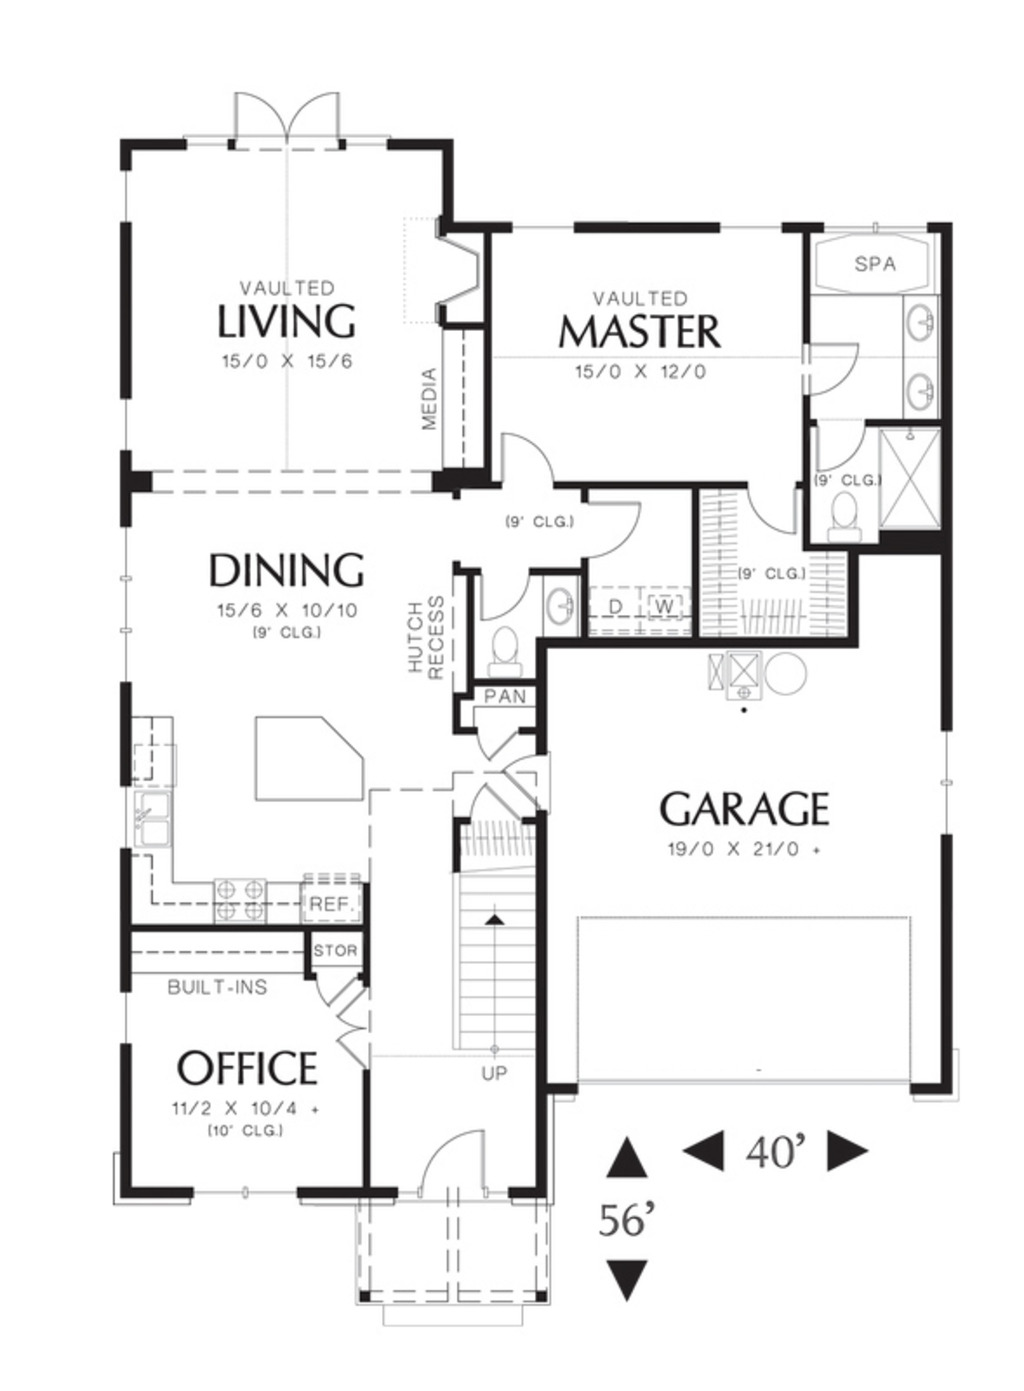door: (221, 89, 358, 161), (412, 1120, 512, 1207), (580, 491, 654, 565), (462, 565, 545, 626), (495, 428, 560, 498), (808, 415, 871, 480), (801, 333, 862, 400), (334, 985, 378, 1070), (743, 472, 799, 535), (308, 965, 369, 1017)
large_sink: (810, 478, 878, 550), (473, 617, 538, 687)
small_sink: (893, 294, 947, 424), (543, 570, 582, 654)
stairs: (449, 870, 551, 1083)
twin_sink: (130, 787, 171, 861)
window: (193, 1187, 312, 1211), (121, 161, 145, 228)
